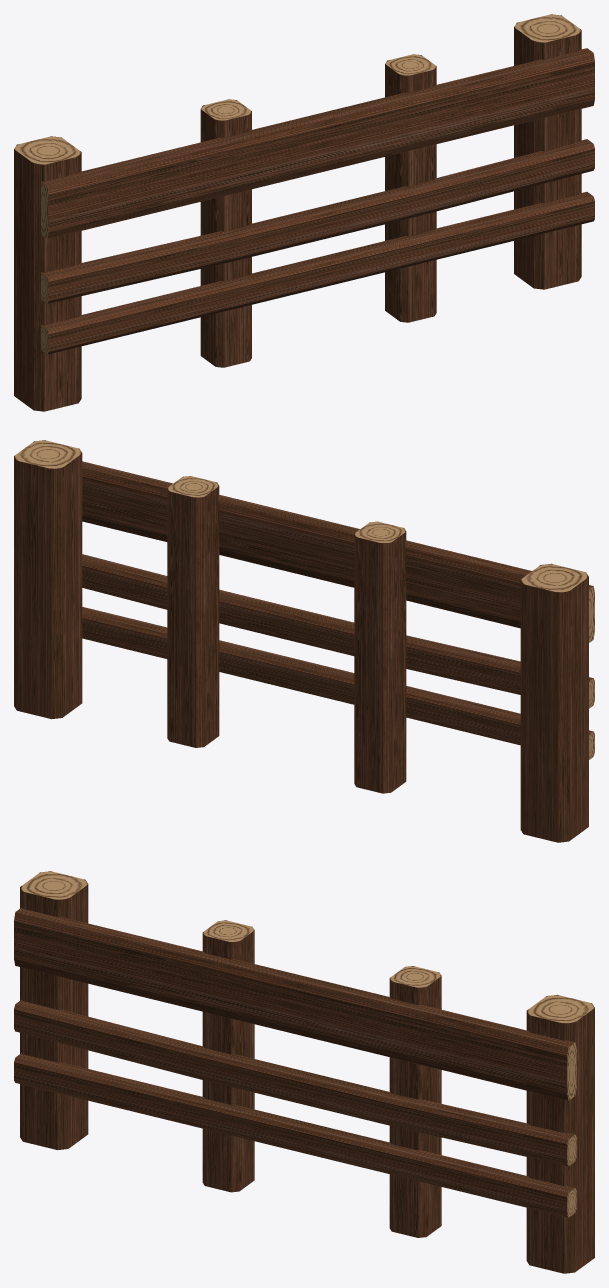
The model's file is fence3.fbx.
The picture shows the model from 3 angles, top to bottom: view 1: azimuth 30°, elevation 25°; view 2: azimuth 150°, elevation 25°; view 3: azimuth 330°, elevation 25°; orthographic projection.
Parts seen in each view (by area): view 1: Cube.019; view 2: Cube.019; view 3: Cube.019.
Part boxes in pixels (<box>): Cube.019: <box>14,14,594,411</box>; Cube.019: <box>14,440,594,842</box>; Cube.019: <box>14,871,594,1273</box>.
Size of the model in its own units: 137 by 58.88 by 14.74.
